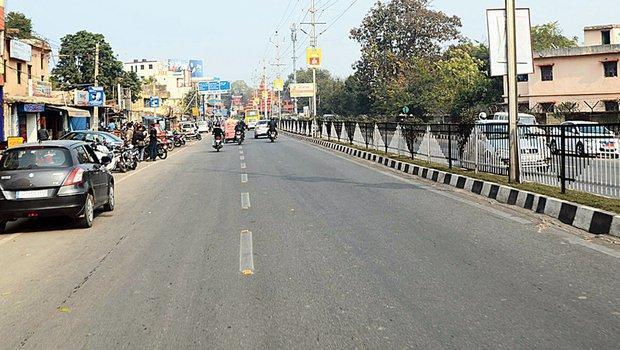car: (2, 130, 118, 242), (462, 113, 556, 173), (72, 120, 167, 165), (546, 116, 619, 161)
motocar: (207, 117, 231, 154), (230, 112, 251, 148), (268, 116, 281, 146)
palisade: (392, 113, 620, 243), (347, 116, 432, 177)
